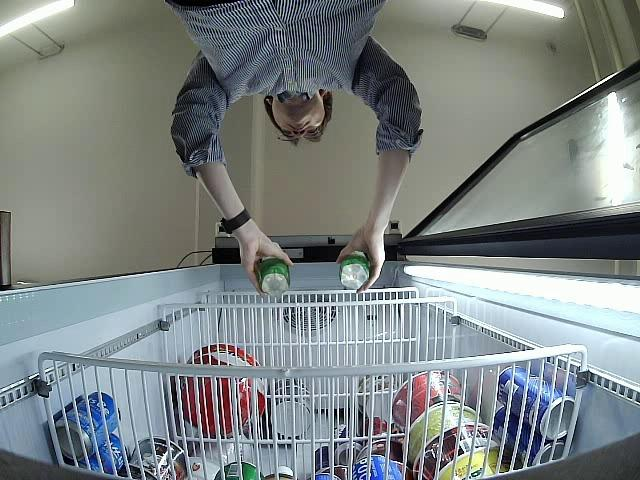00_hand: (335, 229, 386, 294), (240, 238, 296, 295)
18_trevi: (341, 248, 372, 291), (255, 256, 289, 294)
